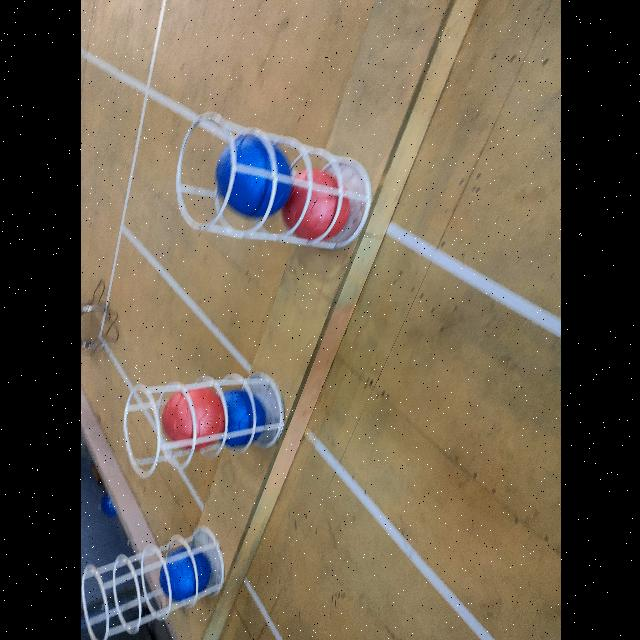B: (214, 135, 292, 217), (215, 391, 265, 447), (160, 548, 210, 602)
R: (282, 170, 350, 240), (162, 388, 224, 450)
